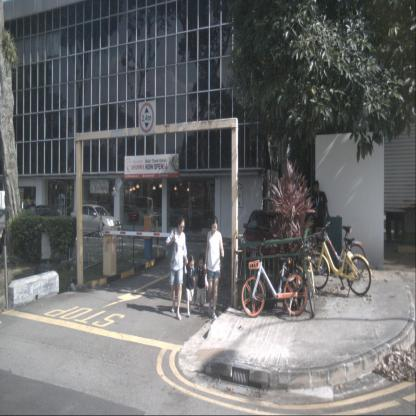human-pedestrian-adult: (166, 215, 188, 321), (204, 216, 224, 320), (310, 179, 331, 272)
vehicle-bicycle: (241, 238, 307, 316), (308, 222, 371, 296), (305, 220, 366, 276), (293, 235, 326, 318)
vehicle-car: (241, 209, 288, 270), (70, 204, 117, 238), (24, 210, 70, 244)
vehicle-truck: (135, 197, 165, 226)
